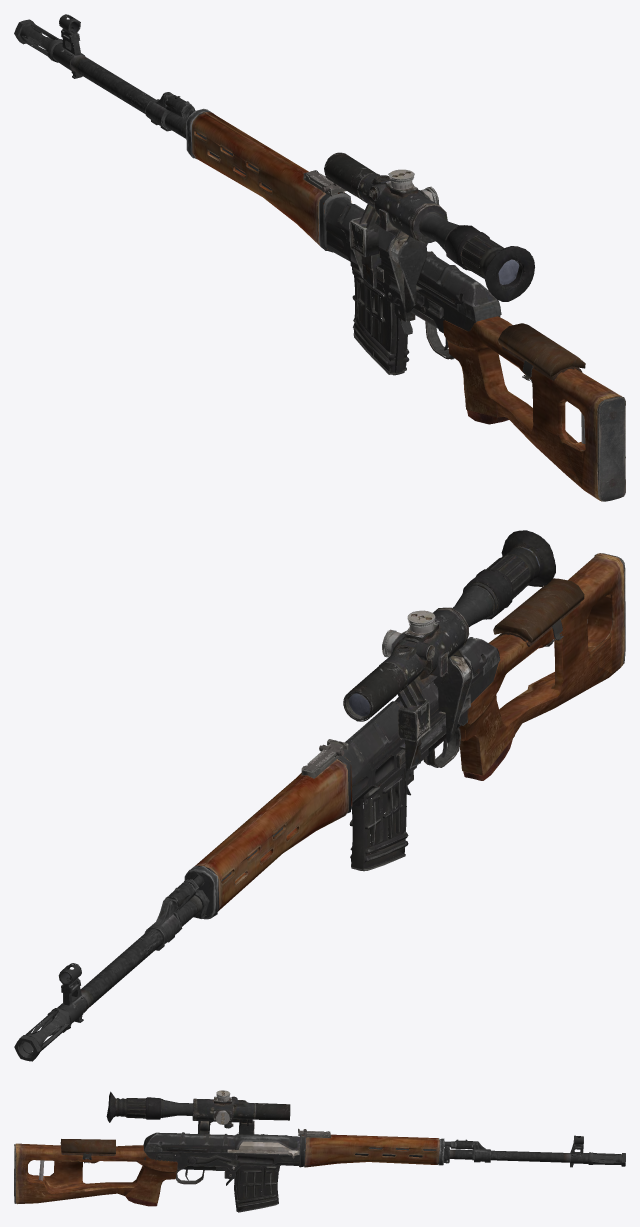
The model's file is svd.glb.
3 renders of one model, top to bottom at view 1: azimuth 30°, elevation 25°; view 2: azimuth 150°, elevation 25°; view 3: azimuth 270°, elevation 25°, orthographic. The views are drawn at different scales.
Visible parts, largest first — view 1: body, mag; view 2: body, mag; view 3: body, mag.
Boxes of the visible parts, x1,y1,x2,y2 form: body: [14, 14, 625, 501]; mag: [327, 244, 409, 375]; body: [14, 530, 625, 1061]; mag: [349, 764, 413, 871]; body: [14, 1090, 625, 1206]; mag: [144, 1151, 299, 1212].
Size of the model in its own units: 0.0766 by 0.257 by 1.23.
9 materials, 9 textured.
